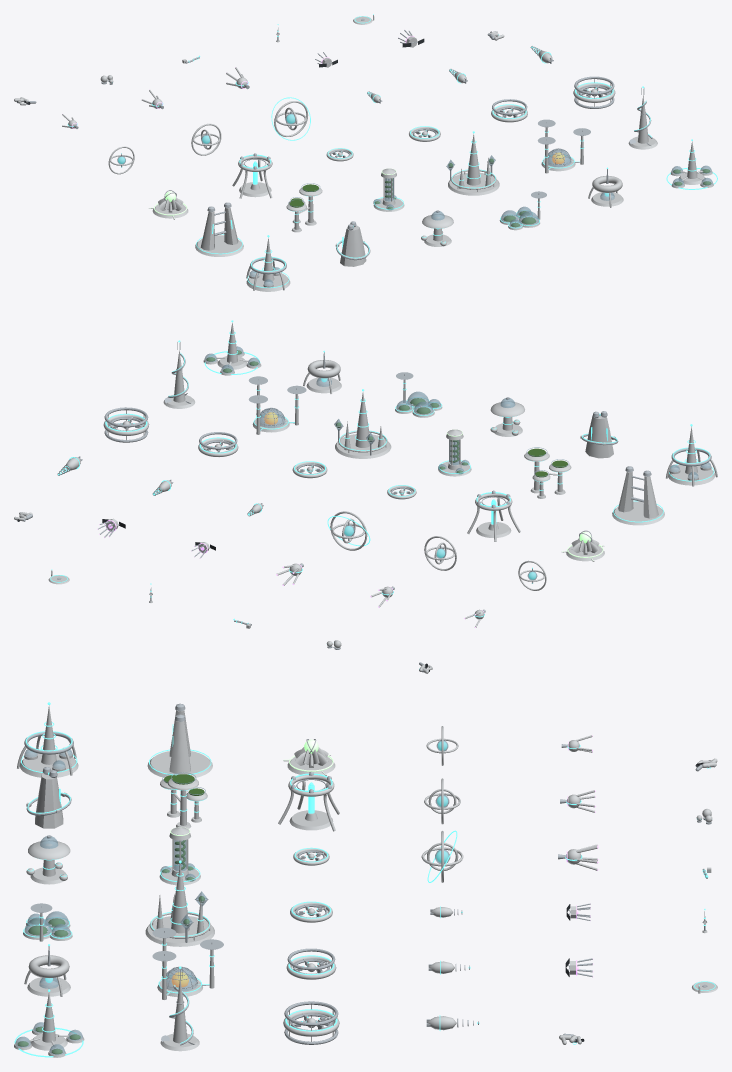
Rendered from building_constructor_scifi.glb.
The picture shows the model from 3 angles, top to bottom: view 1: azimuth 30°, elevation 25°; view 2: azimuth 150°, elevation 25°; view 3: azimuth 270°, elevation 25°; orthographic projection. The views are drawn at different scales.
Parts seen in each view (by area): view 1: 006_scifi_MEGAFACTORY, 009_scifi_METROPLEX, 000_scifi_COLONY_BASE, 010_scifi_POWER_PLANT, 013_scifi_TERRAFORMING, 017_scifi_SPACE_DOCK_HUGE, 005_scifi_RESEARCH_CAMPUS, 001_scifi_FACTORY, 004_scifi_LABORATORY, 007_scifi_HABITAT, 003_scifi_FARM, 002_scifi_OUTPOST (+6 smaller); view 2: 006_scifi_MEGAFACTORY, 009_scifi_METROPLEX, 000_scifi_COLONY_BASE, 010_scifi_POWER_PLANT, 013_scifi_TERRAFORMING, 017_scifi_SPACE_DOCK_HUGE, 007_scifi_HABITAT, 005_scifi_RESEARCH_CAMPUS, 001_scifi_FACTORY, 004_scifi_LABORATORY, 003_scifi_FARM, 002_scifi_OUTPOST (+5 smaller); view 3: 009_scifi_METROPLEX, 006_scifi_MEGAFACTORY, 000_scifi_COLONY_BASE, 010_scifi_POWER_PLANT, 013_scifi_TERRAFORMING, 017_scifi_SPACE_DOCK_HUGE, 005_scifi_RESEARCH_CAMPUS, 001_scifi_FACTORY, 004_scifi_LABORATORY, 007_scifi_HABITAT, 002_scifi_OUTPOST, 003_scifi_FARM (+7 smaller).
Boxes of the visible parts, x1,y1,x2,y2 form: 006_scifi_MEGAFACTORY: (195, 202, 243, 256); 009_scifi_METROPLEX: (446, 131, 499, 195); 000_scifi_COLONY_BASE: (246, 235, 290, 291); 010_scifi_POWER_PLANT: (537, 119, 590, 173); 013_scifi_TERRAFORMING: (232, 153, 272, 198); 017_scifi_SPACE_DOCK_HUGE: (573, 76, 615, 108); 005_scifi_RESEARCH_CAMPUS: (666, 139, 717, 189); 001_scifi_FACTORY: (335, 221, 370, 266); 004_scifi_LABORATORY: (588, 167, 623, 207); 007_scifi_HABITAT: (286, 183, 322, 232); 003_scifi_FARM: (499, 191, 546, 230); 002_scifi_OUTPOST: (421, 210, 453, 246); 006_scifi_MEGAFACTORY: (612, 466, 664, 525); 009_scifi_METROPLEX: (334, 389, 391, 458); 000_scifi_COLONY_BASE: (666, 424, 717, 486); 010_scifi_POWER_PLANT: (248, 376, 306, 434); 013_scifi_TERRAFORMING: (467, 490, 520, 541); 017_scifi_SPACE_DOCK_HUGE: (103, 407, 149, 442); 007_scifi_HABITAT: (524, 447, 571, 498); 005_scifi_RESEARCH_CAMPUS: (203, 320, 261, 375); 001_scifi_FACTORY: (580, 411, 618, 458); 004_scifi_LABORATORY: (303, 350, 341, 393); 003_scifi_FARM: (395, 372, 442, 417); 002_scifi_OUTPOST: (490, 397, 524, 436); 009_scifi_METROPLEX: (145, 860, 214, 946); 006_scifi_MEGAFACTORY: (147, 703, 212, 777); 000_scifi_COLONY_BASE: (17, 702, 78, 777); 010_scifi_POWER_PLANT: (152, 927, 223, 999); 013_scifi_TERRAFORMING: (278, 771, 339, 831); 017_scifi_SPACE_DOCK_HUGE: (283, 1001, 339, 1044); 005_scifi_RESEARCH_CAMPUS: (14, 989, 84, 1057); 001_scifi_FACTORY: (26, 767, 71, 828); 004_scifi_LABORATORY: (24, 944, 70, 996); 007_scifi_HABITAT: (160, 772, 207, 828); 002_scifi_OUTPOST: (26, 835, 70, 884); 003_scifi_FARM: (23, 903, 72, 941).
Bounding box in the file's own units: 33.11 × 4.05 × 32.21.
